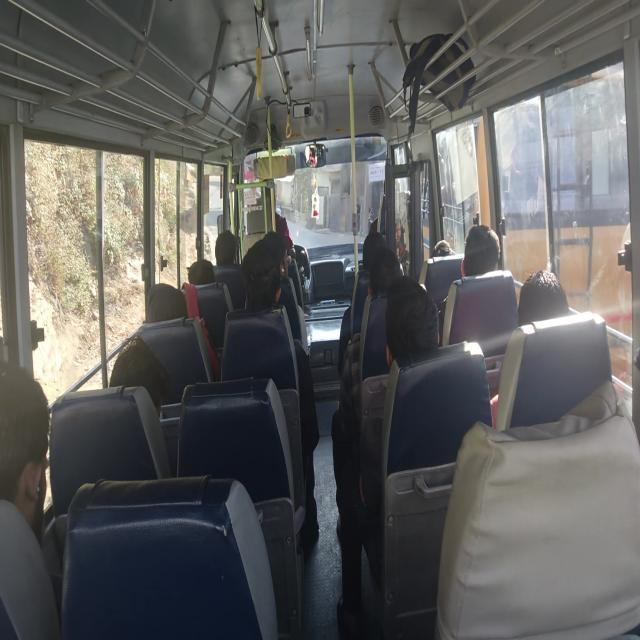person: (5, 351, 91, 465), (382, 283, 447, 355), (524, 271, 586, 331), (148, 282, 194, 342), (252, 246, 293, 292), (463, 238, 495, 292), (266, 229, 301, 275), (368, 261, 399, 305), (183, 250, 217, 288), (362, 227, 385, 273), (222, 232, 244, 260), (435, 239, 456, 263)
